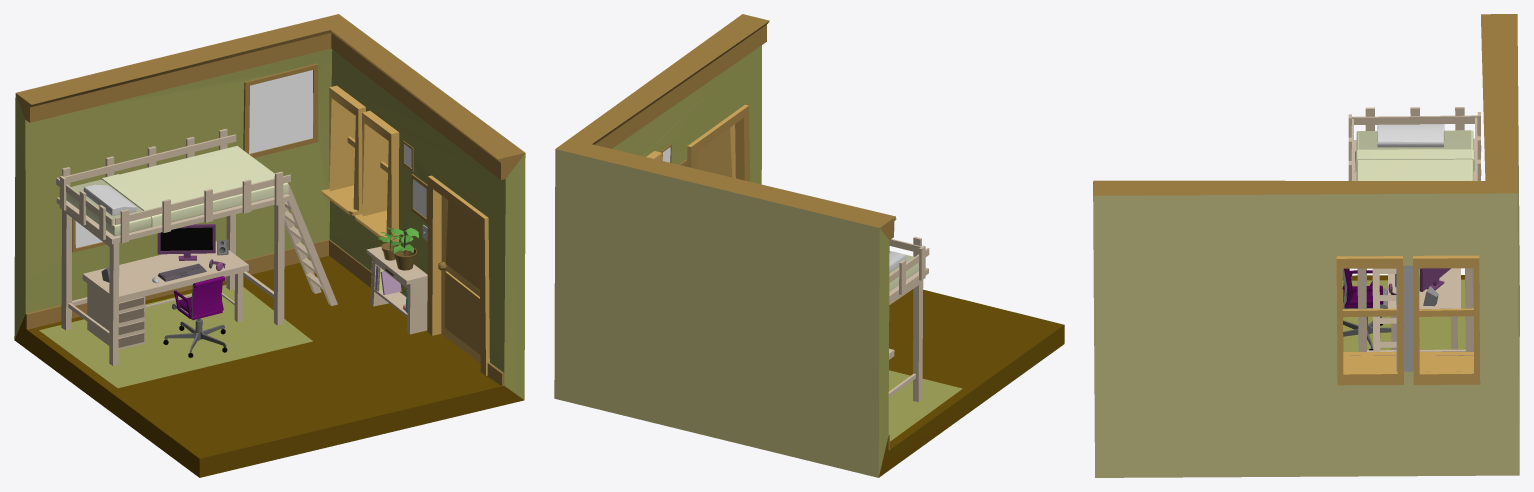
The model's file is room_practice.glb.
The picture shows the model from 3 angles, left to right: view 1: azimuth 30°, elevation 25°; view 2: azimuth 150°, elevation 25°; view 3: azimuth 270°, elevation 25°; orthographic projection. The views are drawn at different scales.
Visible parts, largest first — view 1: polySurface71, pCube44, pCube30, pCube49, polySurface75, pCube50, pCube31, pasted__pasted__pPlane20, polySurface72; view 2: polySurface71, pCube44; view 3: polySurface71, pCube44, pCube30, pCube49, pCube31, polySurface75, pCube50.
Boxes of the visible parts, bbox=[...] form: polySurface71: bbox=[14, 14, 525, 477]; pCube44: bbox=[56, 129, 337, 365]; pCube30: bbox=[66, 146, 288, 236]; pCube49: bbox=[82, 241, 248, 349]; polySurface75: bbox=[164, 276, 226, 352]; pCube50: bbox=[157, 224, 215, 260]; pCube31: bbox=[83, 184, 136, 215]; pasted__pasted__pPlane20: bbox=[389, 228, 418, 270]; polySurface72: bbox=[72, 218, 106, 252]; polySurface71: bbox=[554, 14, 1064, 477]; pCube44: bbox=[888, 237, 929, 401]; polySurface71: bbox=[1093, 14, 1519, 477]; pCube44: bbox=[1348, 107, 1481, 351]; pCube30: bbox=[1355, 130, 1474, 180]; pCube49: bbox=[1388, 268, 1460, 349]; pCube31: bbox=[1377, 124, 1444, 147]; polySurface75: bbox=[1342, 268, 1391, 348]; pCube50: bbox=[1419, 268, 1450, 291].
Bounding box in the file's own units: 4.68 × 3.4 × 4.62.
